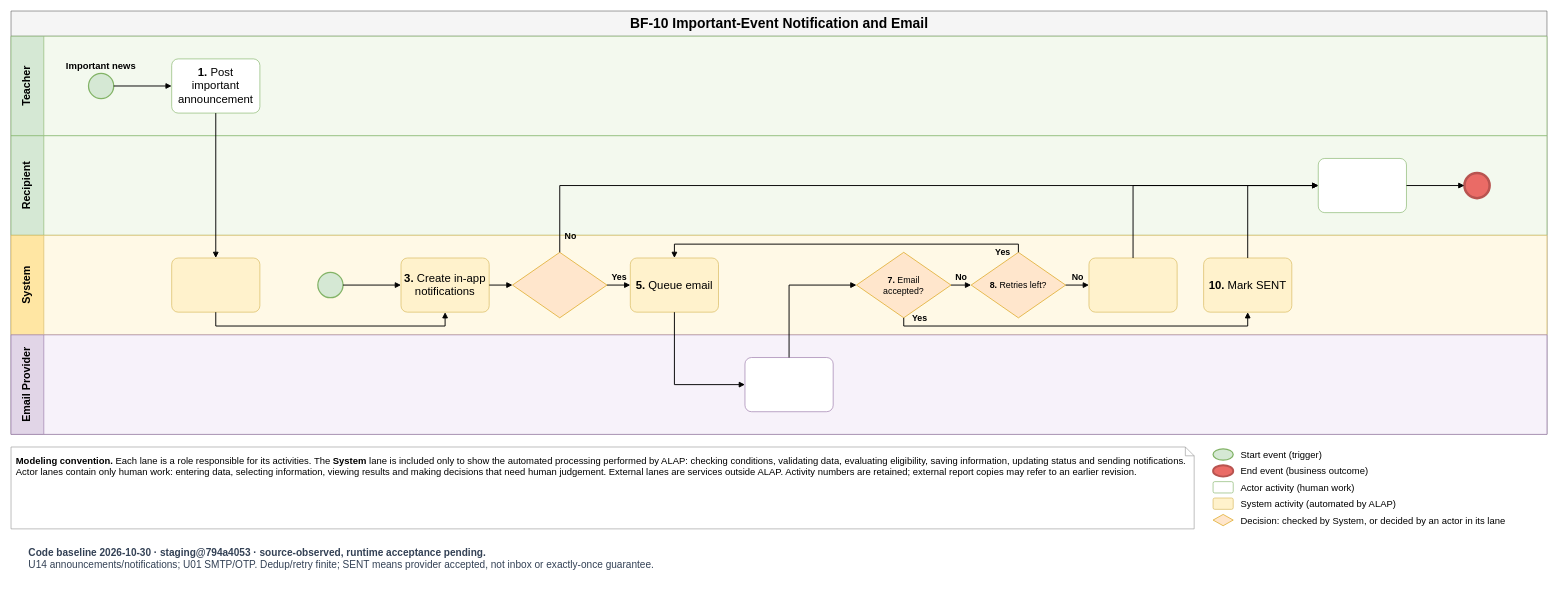
The diagram is 1558 pixels wide and 606 high, and some of its shapes have lost their labels. The shapes that lost their labels are listed below. From the top down, each one's box as (x1, y1, x2, y2) in pixels, then its label:
(1318, 158, 1406, 213): 11. Read notification
(1463, 171, 1491, 199): Recipient informed
(171, 257, 260, 312): 2. Save announcement
(317, 272, 343, 298): Other event committed
(512, 252, 607, 318): 4. Email needed?
(1088, 257, 1177, 312): 9. Mark FAILED
(744, 357, 833, 412): 6. Accept email
